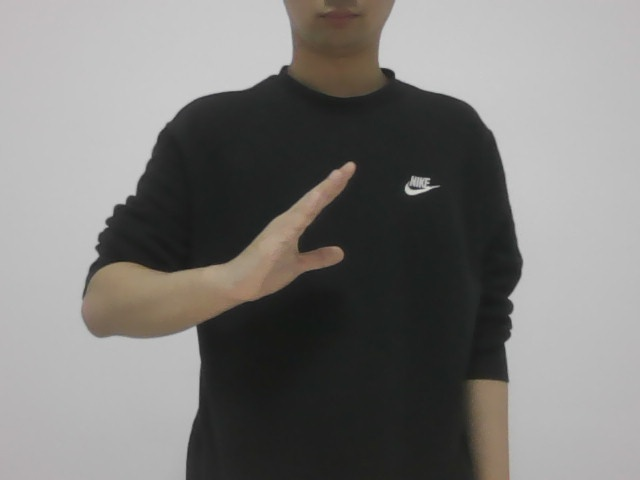morning: (223, 151, 370, 303)
